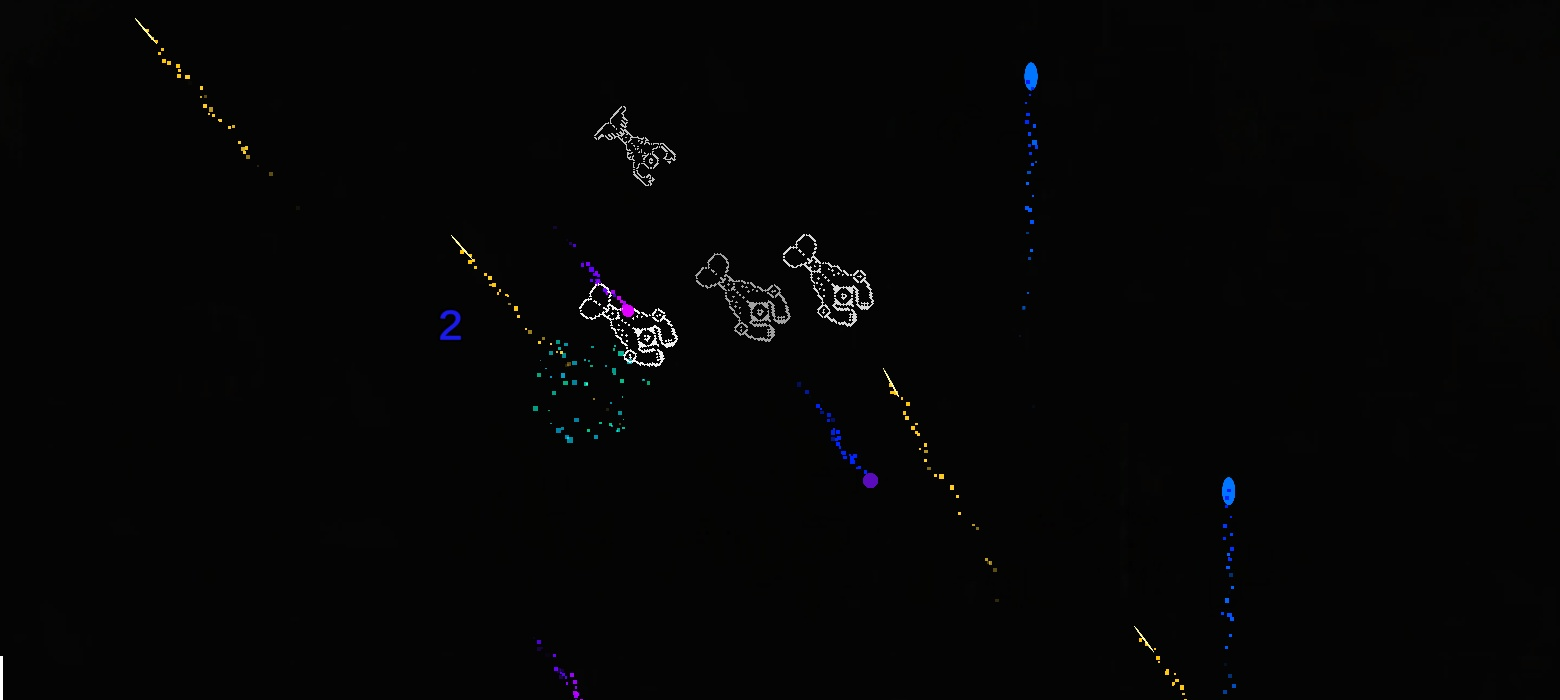enemy: (694, 252, 791, 343), (782, 233, 874, 328), (578, 283, 679, 368), (594, 106, 677, 187)
